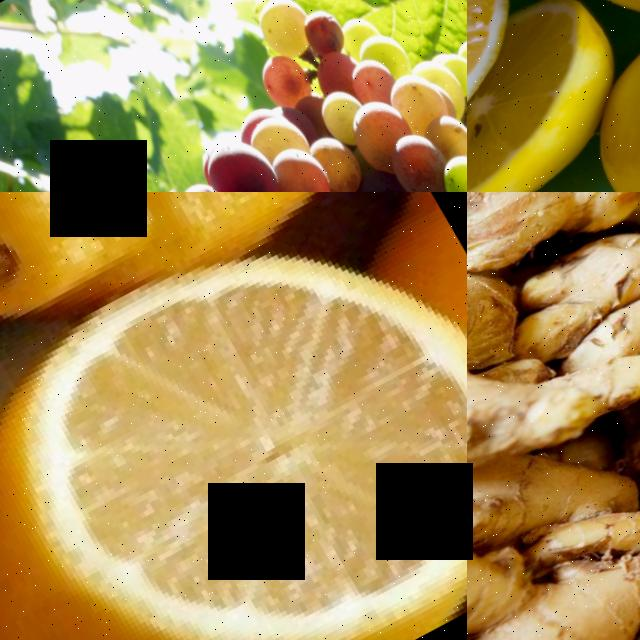ginger: (467, 192, 640, 518), (518, 192, 640, 511), (467, 491, 640, 640), (467, 192, 620, 343)
grapes: (93, 4, 467, 192)
lemon: (0, 194, 467, 640), (0, 192, 416, 375), (467, 0, 560, 190), (576, 0, 640, 192), (519, 0, 640, 56)
